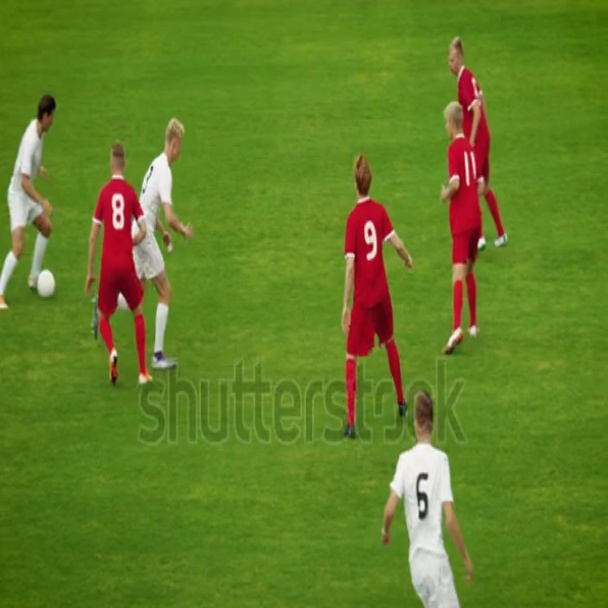ball: (36, 270, 58, 303)
